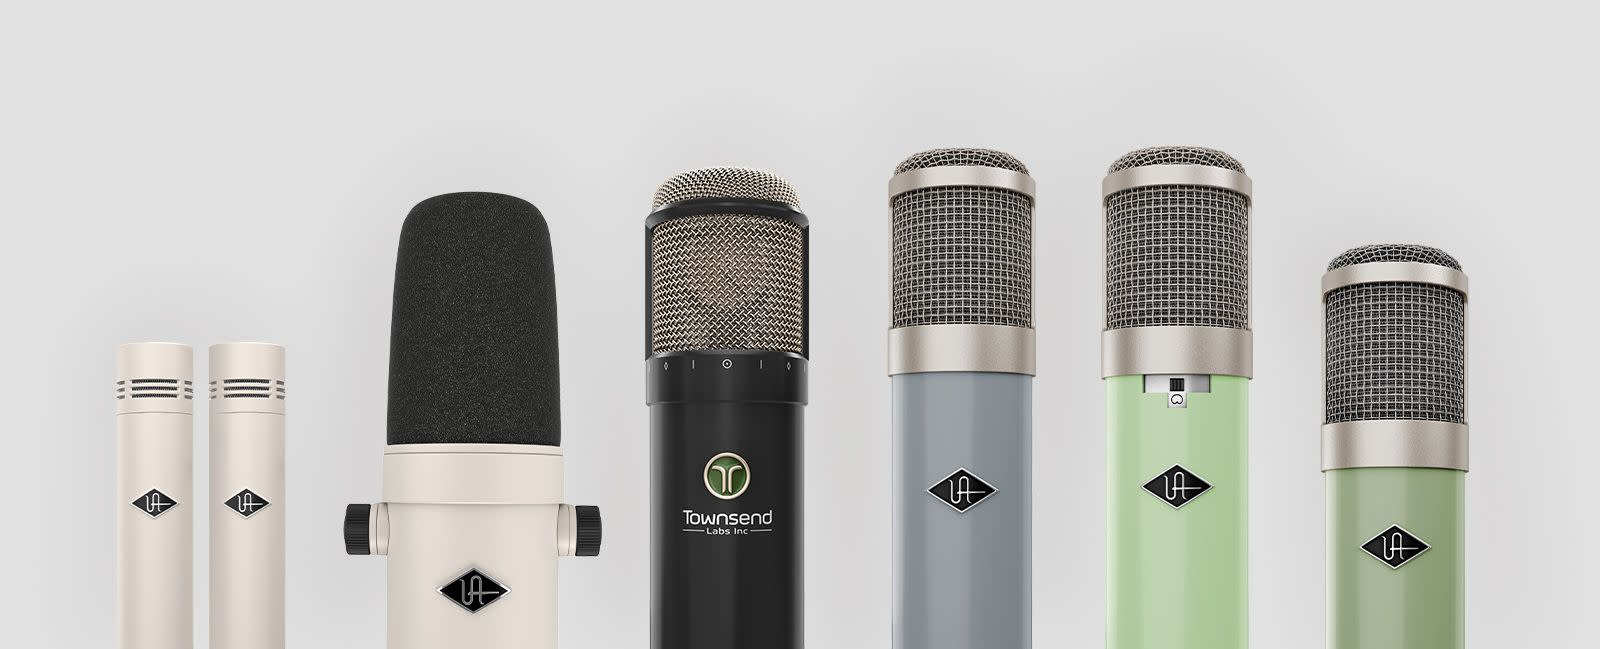microphone: (341, 186, 608, 649), (880, 142, 1055, 649), (636, 164, 816, 649), (1091, 142, 1263, 649), (1316, 239, 1476, 649), (108, 334, 202, 649), (208, 334, 291, 649)
